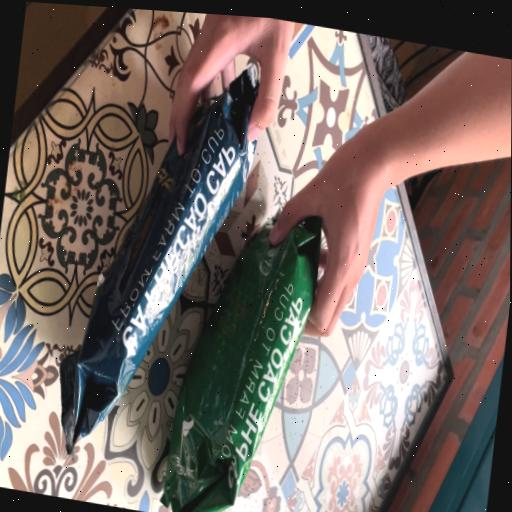cafe_hat: (59, 67, 258, 451)
cafe_xay: (160, 217, 320, 512)
